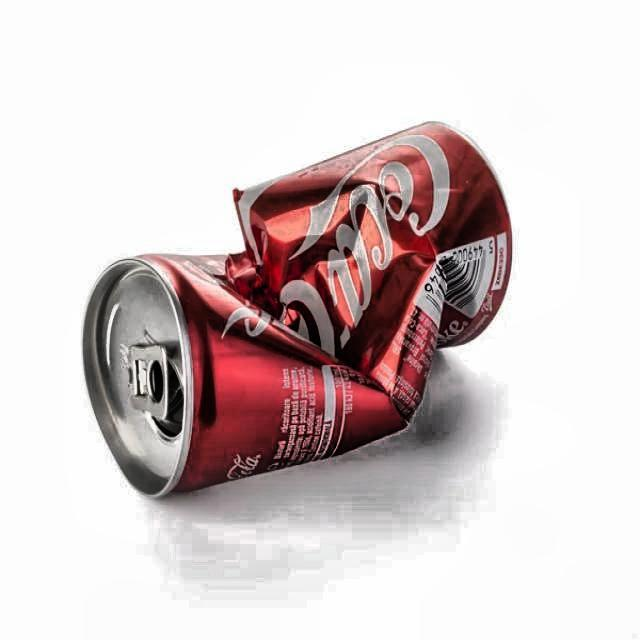metal: (80, 122, 515, 502)
